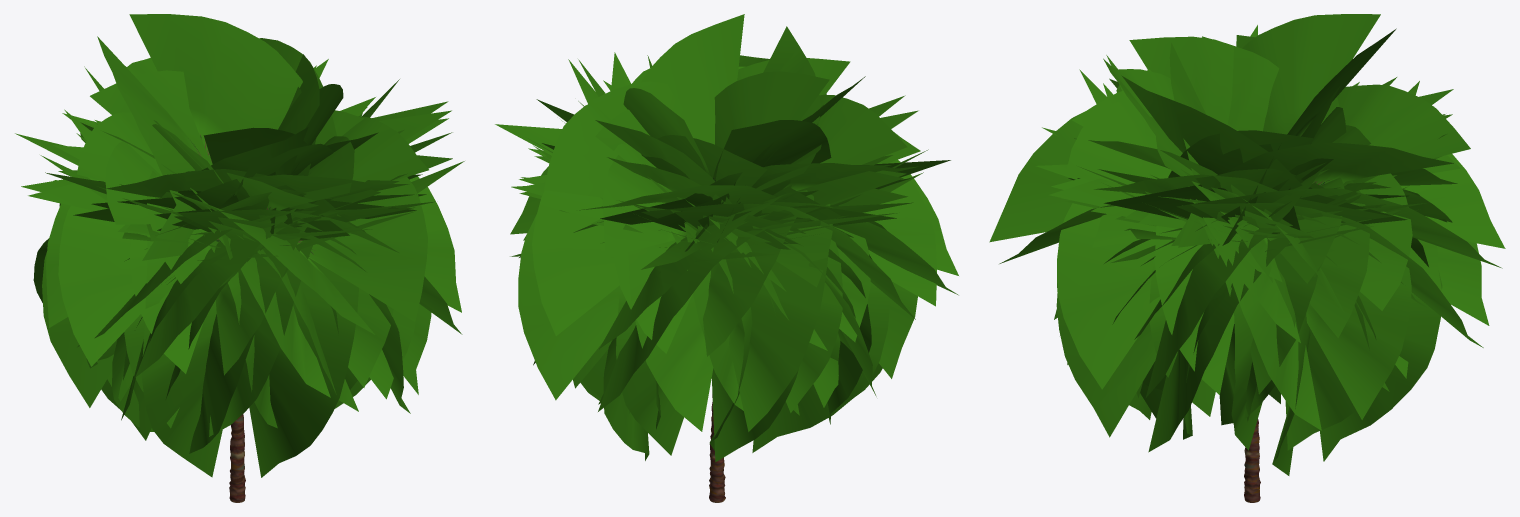
File: SM_PalmTree01.fbx
3 views of the same model, side by side, from view 1: azimuth 30°, elevation 25°; view 2: azimuth 150°, elevation 25°; view 3: azimuth 270°, elevation 25° (orthographic). The views are drawn at different scales.
Visible parts, largest first — view 1: SM_PalmTree01_LOD0; view 2: SM_PalmTree01_LOD0; view 3: SM_PalmTree01_LOD0.
Part boxes in pixels (<box>): SM_PalmTree01_LOD0: <box>15,14,464,502</box>; SM_PalmTree01_LOD0: <box>495,14,958,502</box>; SM_PalmTree01_LOD0: <box>989,14,1505,502</box>.
Size of the model in its own units: 868 by 953 by 924.
2 materials, 2 textured.
